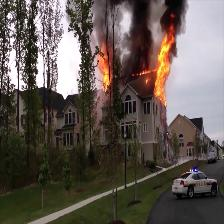fire: (148, 20, 178, 111), (95, 41, 113, 91)
